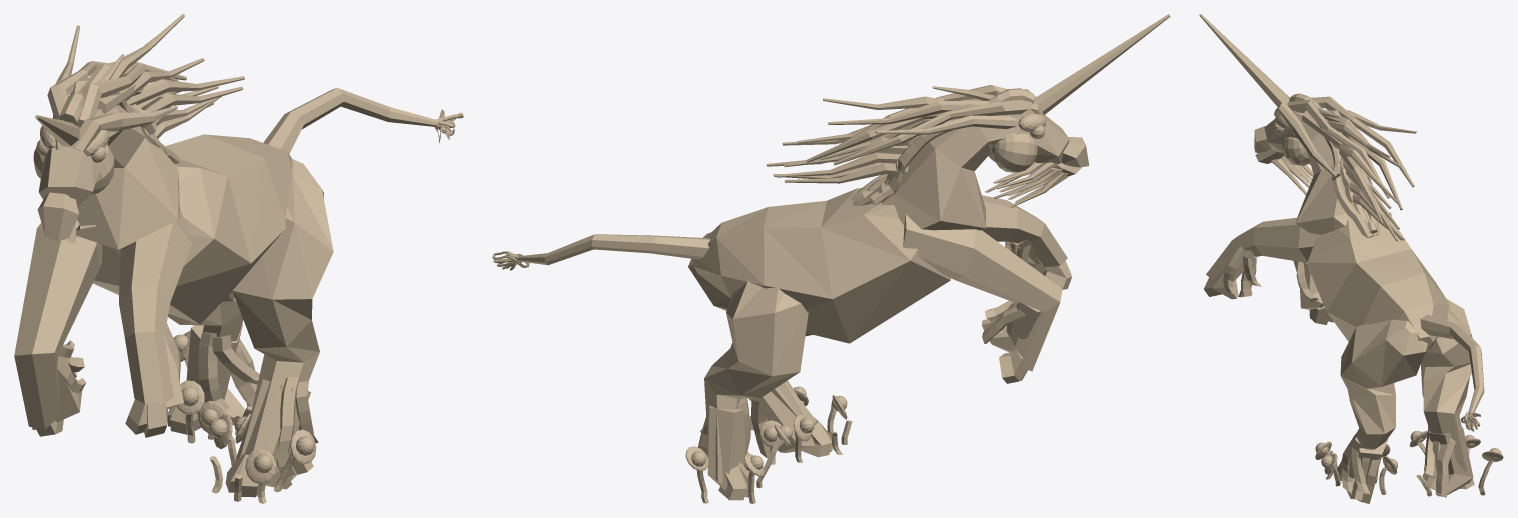
File: qilin.glb
3 renders of one model, left to right at view 1: azimuth 30°, elevation 25°; view 2: azimuth 150°, elevation 25°; view 3: azimuth 270°, elevation 25°, orthographic. The views are drawn at different scales.
Visible parts, largest first — view 1: group1296787077; view 2: group1296787077; view 3: group1296787077.
Part boxes in pixels (x1,y1,x2,y2): group1296787077: (14, 14, 463, 503); group1296787077: (492, 14, 1170, 503); group1296787077: (1199, 14, 1503, 503).
Bounding box in the file's own units: 1.84 × 1.52 × 1.14.
